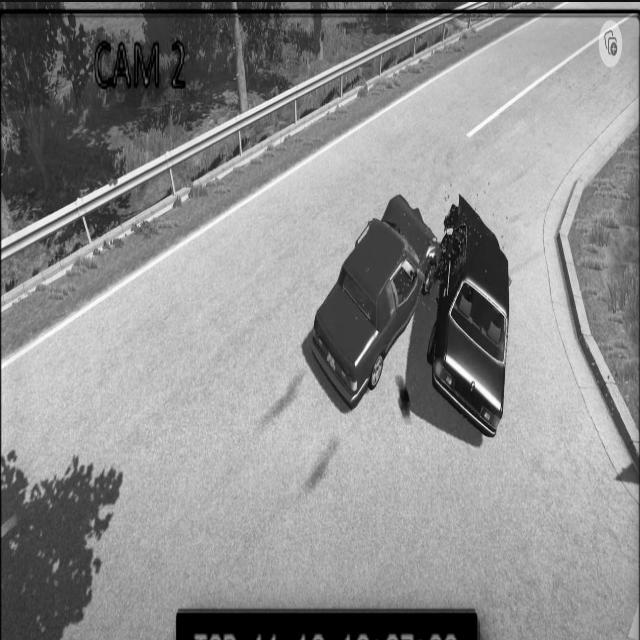accident: (310, 191, 511, 447)
